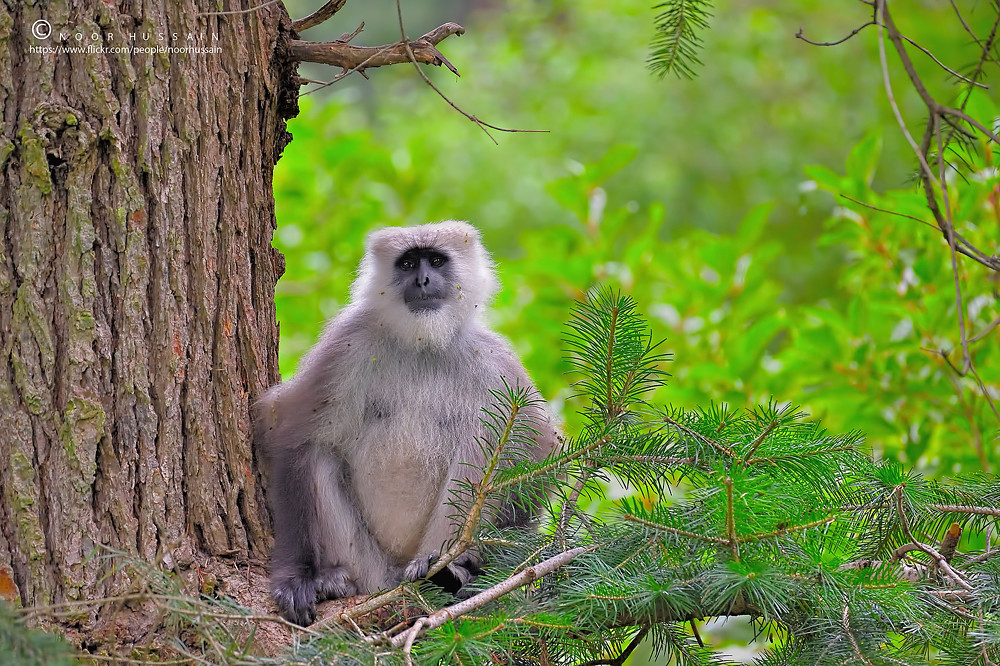monkey: (240, 200, 612, 622)
